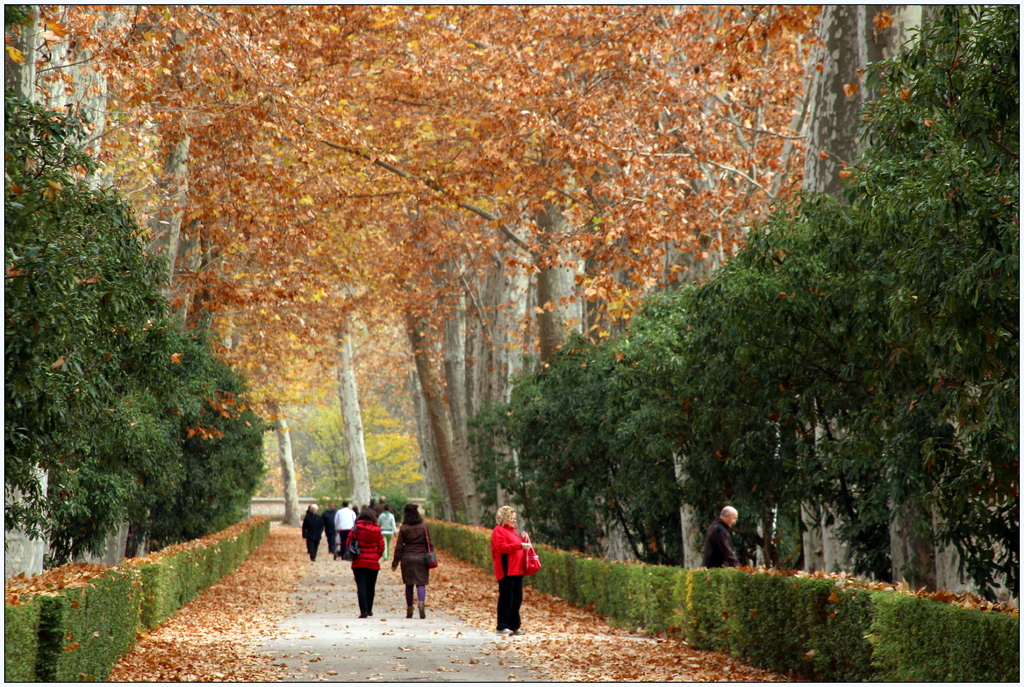Tree: (469, 7, 1021, 610), (0, 0, 477, 591)
